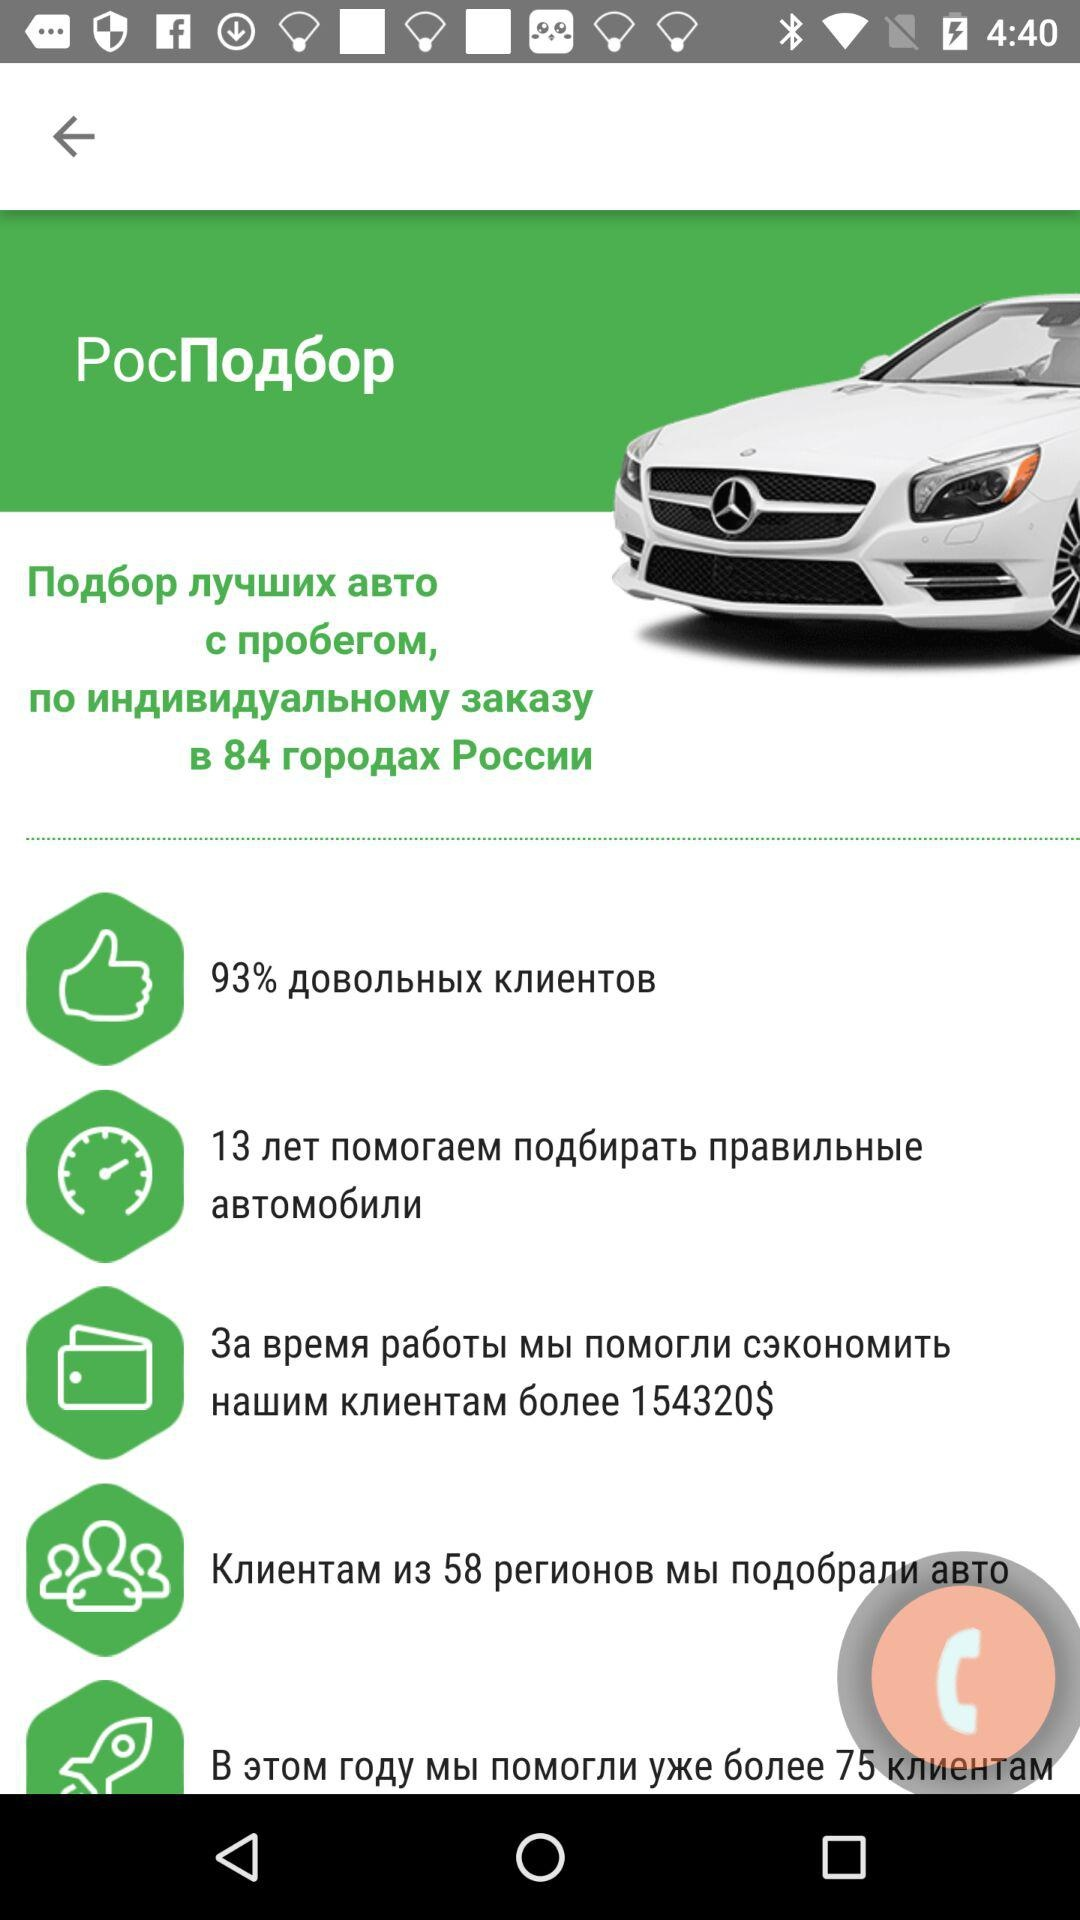Bar: (5, 63, 1075, 210)
TextView: (542, 112, 727, 161)
